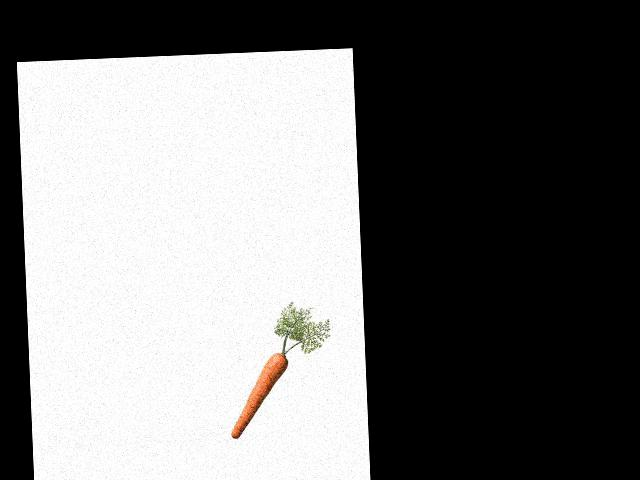carrot: (228, 350, 294, 441)
